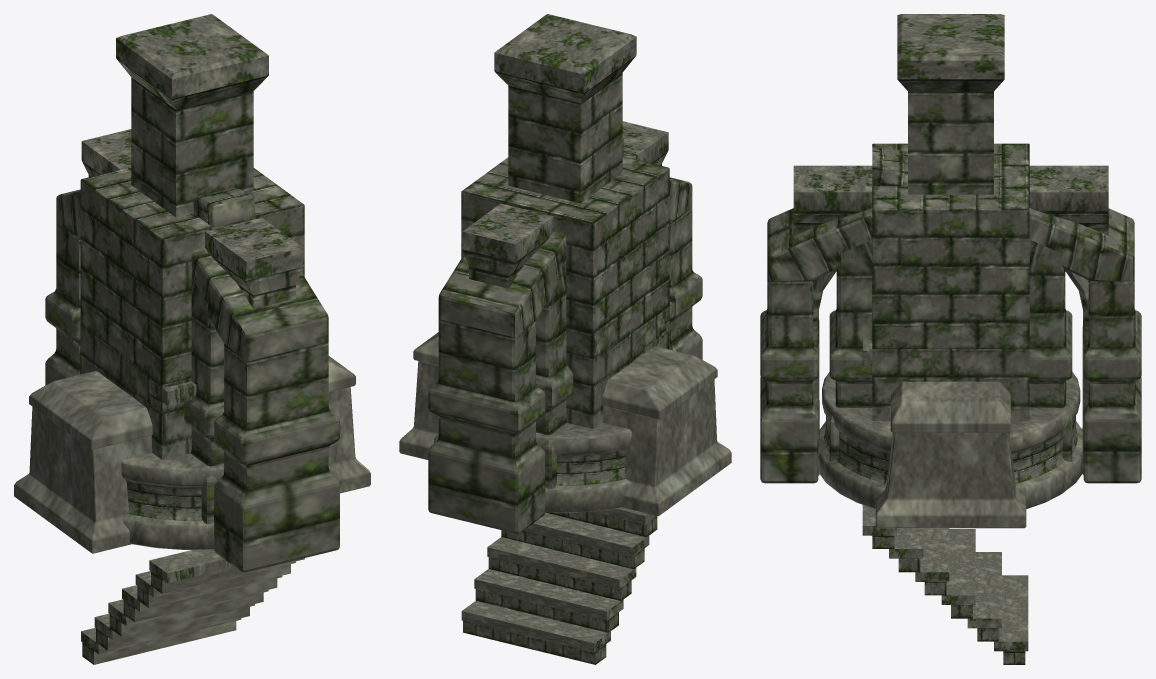
Rendered from walls-dungeon.glb.
3 views of the same model, side by side, from view 1: azimuth 30°, elevation 25°; view 2: azimuth 150°, elevation 25°; view 3: azimuth 270°, elevation 25° (orthographic). The views are drawn at different scales.
Parts seen in each view (by area): view 1: MossyBrickDoorwayHeavyWide, MossyBrickWallBlock, MossyBrickPillarTall, RoughStoneSarcophagus, MossyStoneStairsDown, MossyBrickArchWide, MossyStoneCistern, SarcophagusLid, MossyBrickDoorwayHeavy, MossyBrickCube, MossyBrickArch, MossyStoneStairs (+1 smaller); view 2: MossyBrickDoorwayHeavyWide, MossyBrickWallBlock, MossyStoneStairsDown, MossyBrickPillarTall, RoughStoneSarcophagus, MossyBrickArchWide, MossyStoneCistern, SarcophagusLid, MossyBrickDoorwayHeavy, MossyBrickWallBlockRamp, MossyBrickCube; view 3: MossyBrickDoorwayHeavyWide, MossyBrickWallBlock, MossyBrickPillarTall, MossyBrickDoorwayHeavy, RoughStoneSarcophagus, MossyStoneCistern, MossyStoneStairsDown, MossyBrickArchWide, MossyBrickCube, SarcophagusLid, MossyBrickArch.
Part boxes in pixels (<box>): MossyBrickDoorwayHeavyWide: <box>45,189,339,572</box>; MossyBrickWallBlock: <box>80,167,304,459</box>; MossyBrickPillarTall: <box>116,14,268,217</box>; RoughStoneSarcophagus: <box>14,387,370,553</box>; MossyStoneStairsDown: <box>81,549,304,664</box>; MossyBrickArchWide: <box>81,129,303,308</box>; MossyStoneCistern: <box>121,453,333,549</box>; SarcophagusLid: <box>29,356,355,449</box>; MossyBrickDoorwayHeavy: <box>184,278,223,524</box>; MossyBrickCube: <box>80,325,191,459</box>; MossyBrickArch: <box>193,187,254,227</box>; MossyStoneStairs: <box>135,379,196,459</box>; MossyBrickDoorwayHeavyWide: <box>428,177,702,533</box>; MossyBrickWallBlock: <box>461,156,669,428</box>; MossyStoneStairsDown: <box>461,507,657,664</box>; MossyBrickPillarTall: <box>494,14,636,203</box>; RoughStoneSarcophagus: <box>399,361,731,516</box>; MossyBrickArchWide: <box>462,121,668,288</box>; MossyStoneCistern: <box>434,422,631,512</box>; SarcophagusLid: <box>413,332,717,419</box>; MossyBrickDoorwayHeavy: <box>536,260,573,488</box>; MossyBrickWallBlockRamp: <box>566,225,593,426</box>; MossyBrickCube: <box>566,303,669,428</box>; MossyBrickDoorwayHeavyWide: <box>760,208,1141,483</box>; MossyBrickWallBlock: <box>872,143,1029,358</box>; MossyBrickPillarTall: <box>897,14,1004,194</box>; MossyBrickDoorwayHeavy: <box>829,240,1072,461</box>; RoughStoneSarcophagus: <box>875,432,1026,528</box>; MossyStoneCistern: <box>819,372,1082,508</box>; MossyStoneStairsDown: <box>862,505,1028,664</box>; MossyBrickArchWide: <box>793,165,1108,475</box>; MossyBrickCube: <box>872,349,1029,421</box>; SarcophagusLid: <box>890,381,1011,432</box>; MossyBrickArch: <box>872,147,907,186</box>.
Size of the model in its own units: 1.96 by 4.18 by 2.42.
11 materials, 6 textured.
